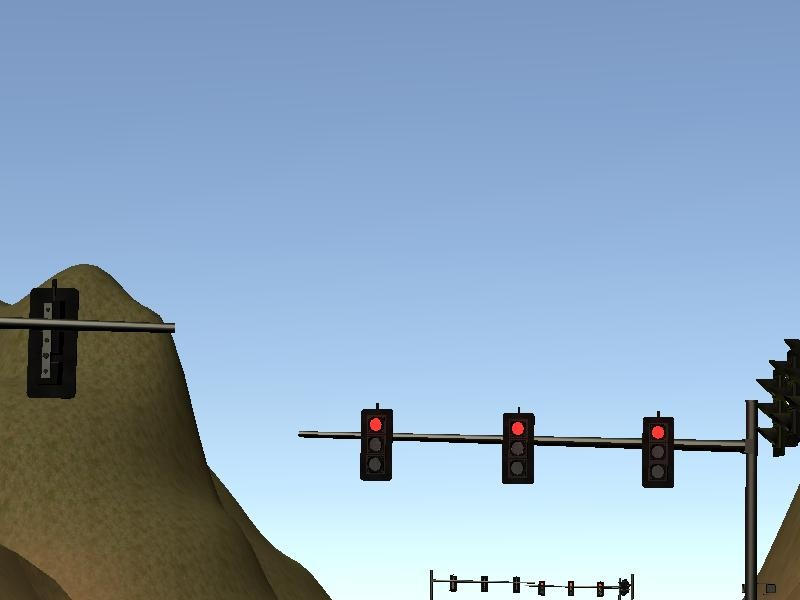red: (357, 406, 396, 483), (643, 417, 676, 486), (504, 414, 532, 481)
